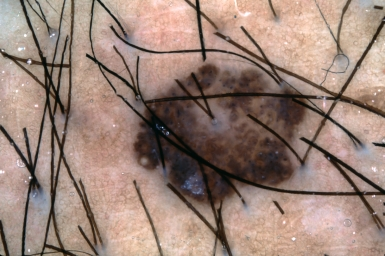seborrheic keratosis: (126, 40, 312, 212)
